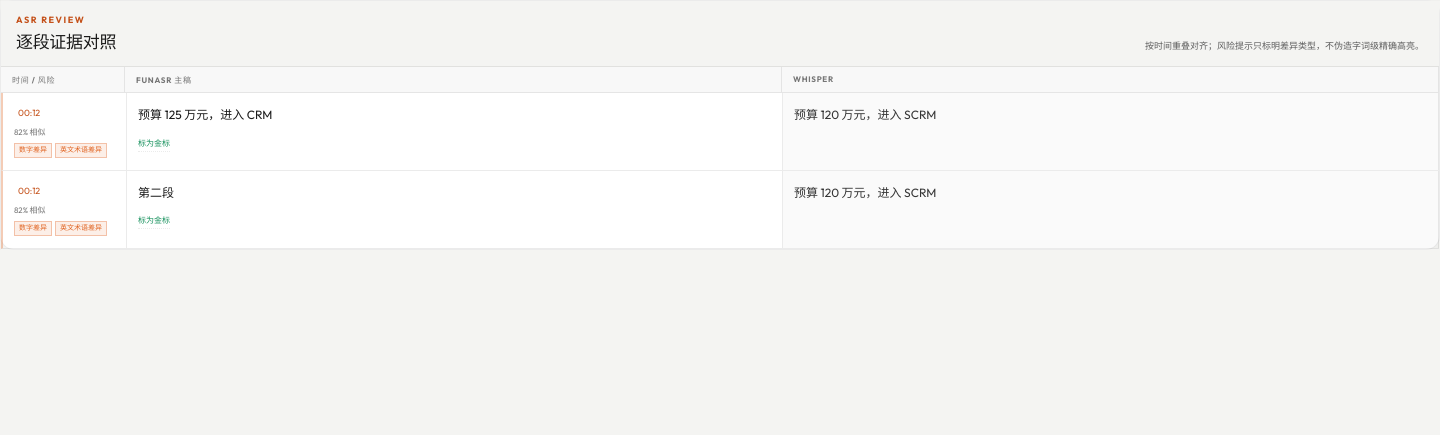
TranscriptComparisonPanel › requires confirmation before replacing an unsaved gold edit with another row
This screenshot has width=1440, height=435.
Click the button "标为金标" below "预算 125 万元，进入 CRM".
click(154, 143)  # box 138,134 -> 170,152
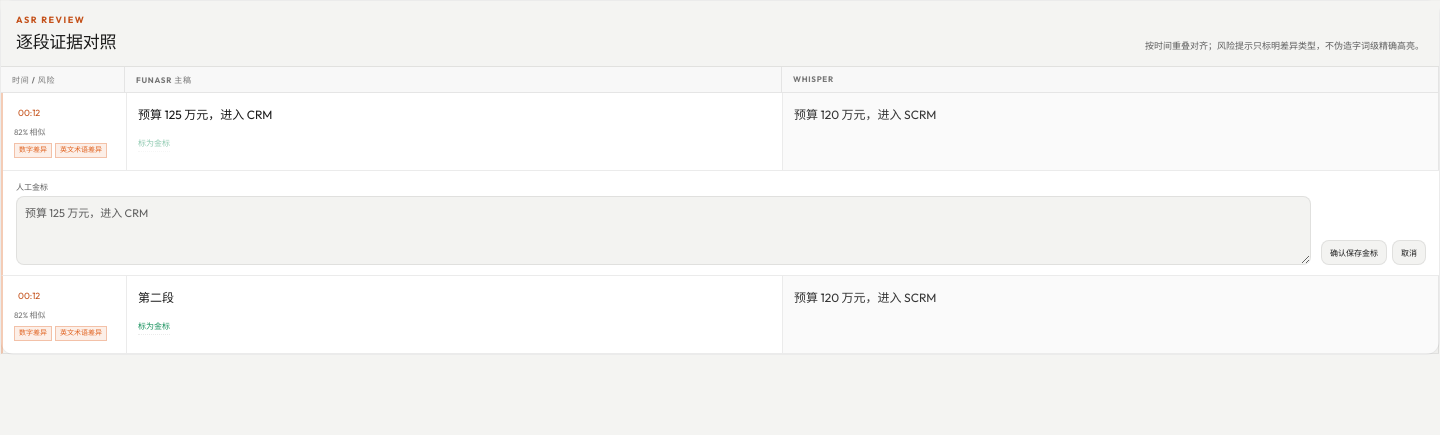
Replace the text in the text box named "seg-1 金标文本" with "A 未保存" at (664, 230), box 16,196 -> 1311,265
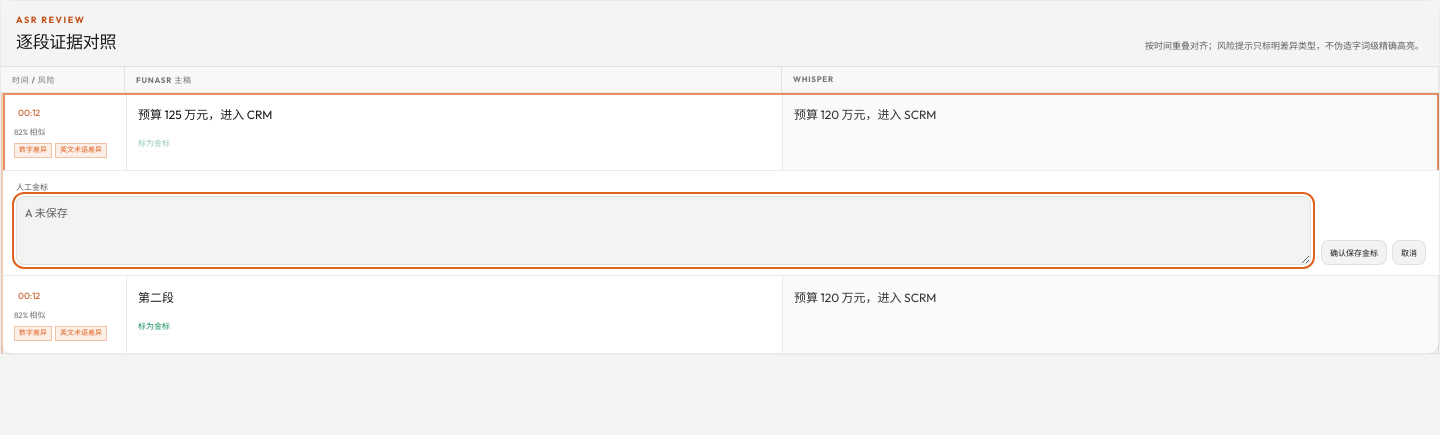
Click the button "标为金标" below "第二段".
click(154, 326)  # box 138,316 -> 170,334
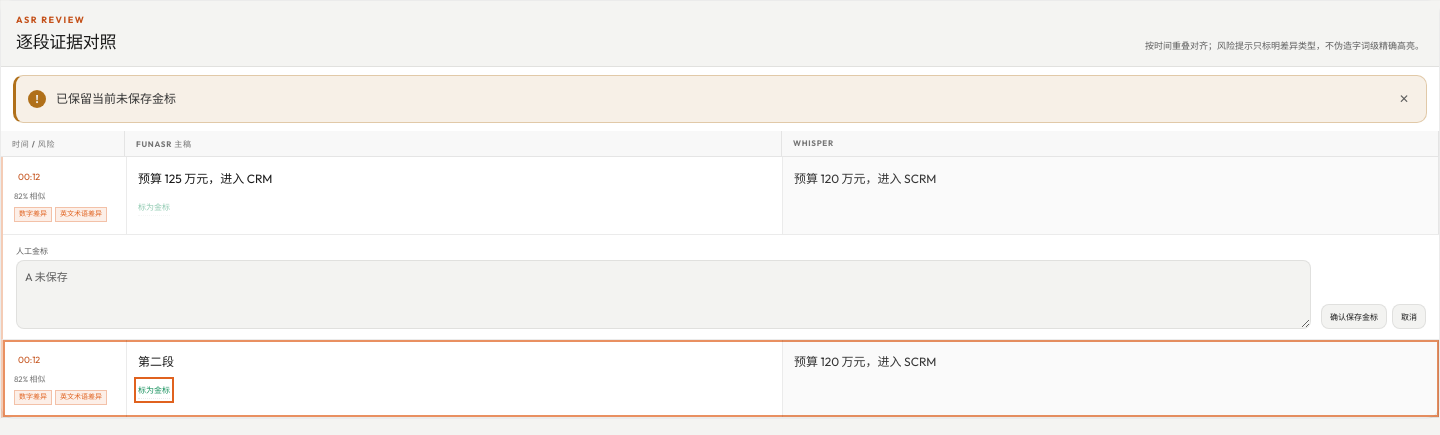
Click the button "标为金标" below "第二段".
click(154, 390)  # box 138,380 -> 170,398
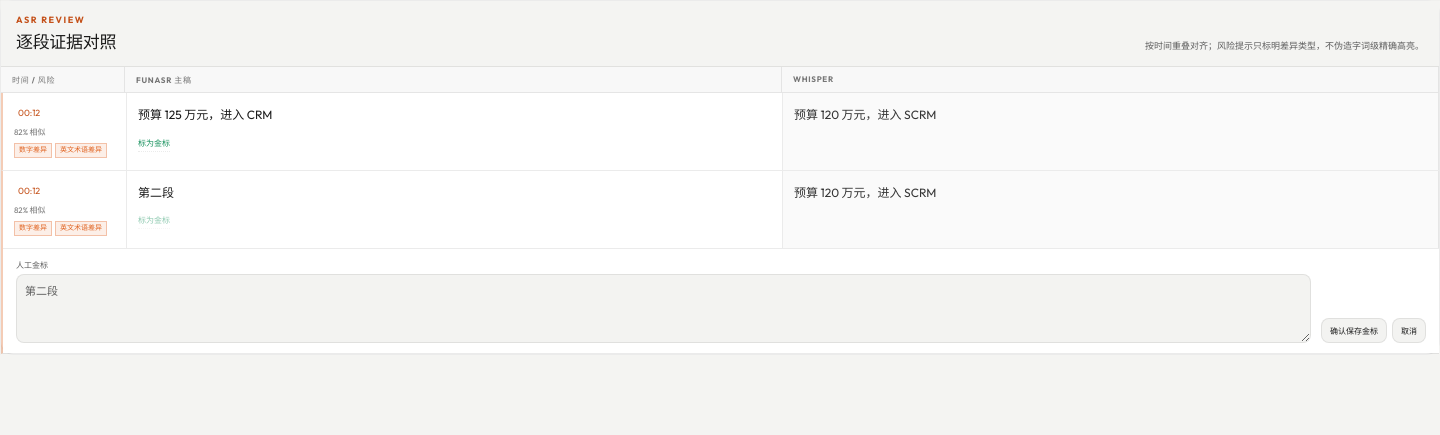
Result: the text box named "seg-2 金标文本" holds "第二段" at 16,274 -> 1311,343
